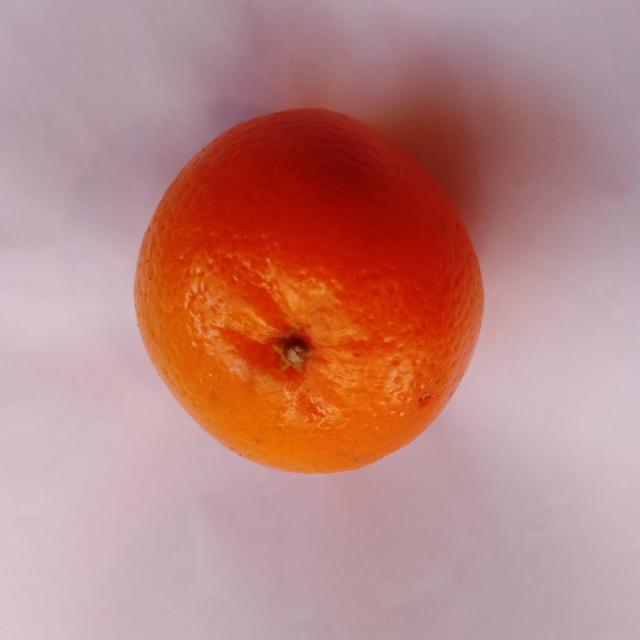orange: (135, 109, 483, 472)
